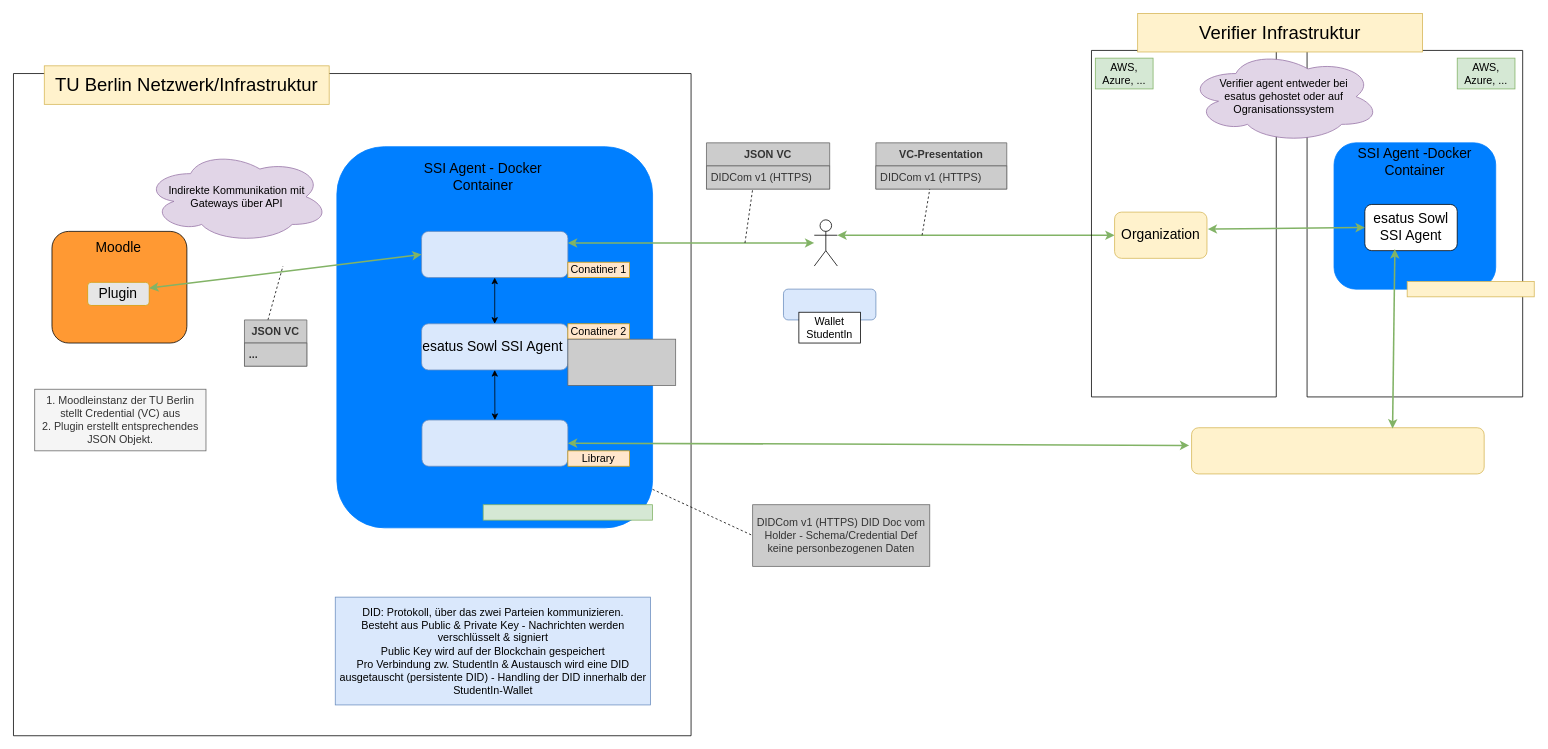
Image size: 1548x749. Some labels were removed from this diagram. The shapes that lost their labels are listed below. From the top down, each one's centre as x and y in pixels, then its label:
point (494, 254): API: Austellen und verifizieren von Credential
point (825, 242): Holder (Student)
point (829, 304): esatus Wallet
point (1470, 289): Verifizierungskomponene
point (621, 361): Neo4j DB Connections, Credentials, Credentialdefinitions, Schemadefinitions
point (494, 442): Hyperledger Aries
point (1337, 450): DLT/Blockchain Aries (Knotenbetrieb IDunion)
point (567, 512): Wird von esatus bereitgestellt
